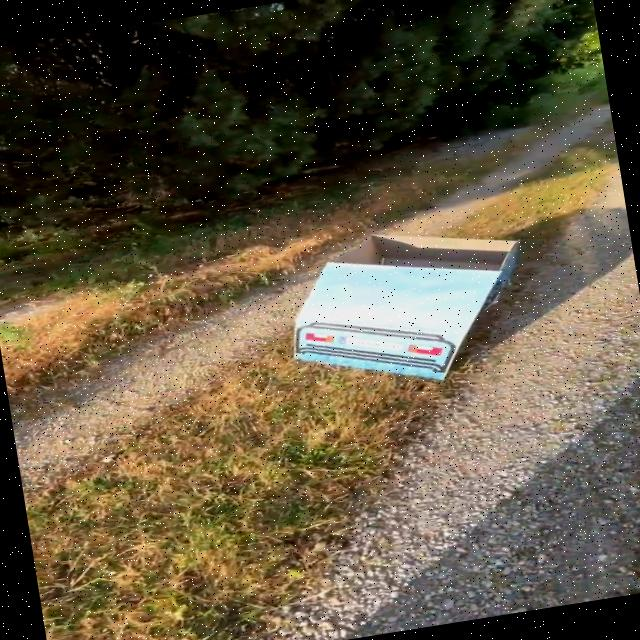blue_car: (242, 193, 550, 443)
